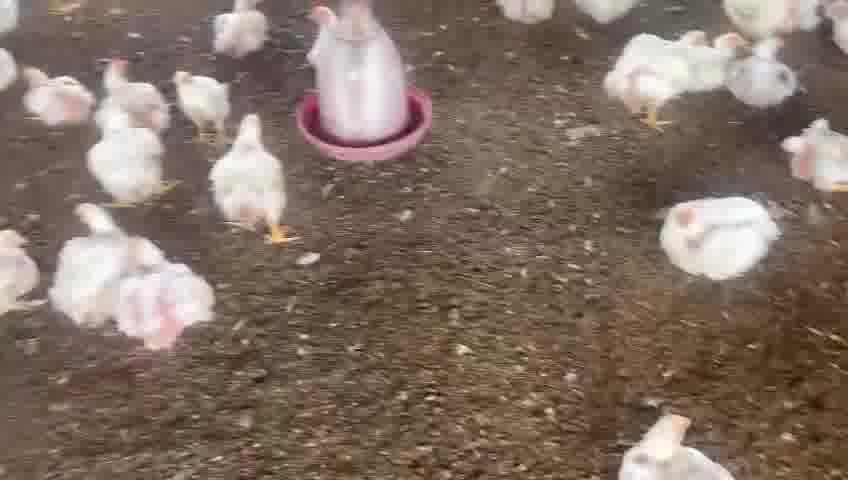Normal: (203, 115, 310, 242), (120, 228, 216, 355), (658, 190, 786, 279), (53, 202, 133, 321), (609, 412, 746, 480), (609, 33, 700, 124), (90, 108, 167, 214), (779, 93, 848, 207), (0, 221, 71, 317), (733, 19, 805, 110), (95, 52, 179, 124), (205, 0, 284, 74), (19, 63, 103, 129), (173, 65, 246, 129), (685, 25, 747, 90)
